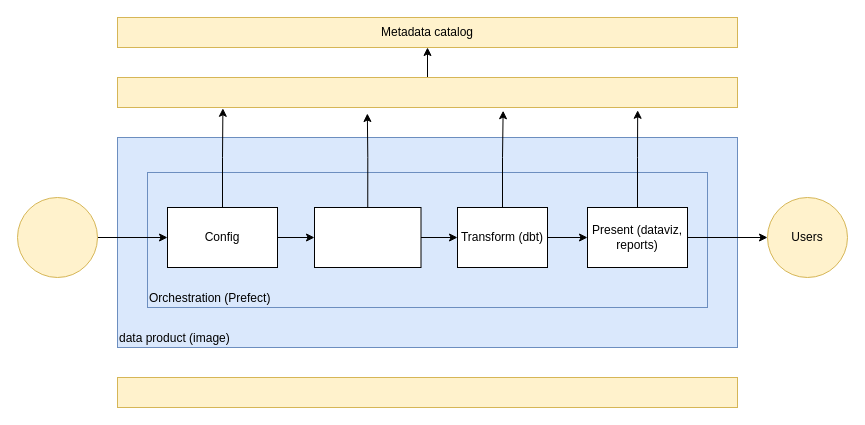
Image size: 865x425. Some labels were removed from this diagram. The shapes that lost their labels are listed below. From the top down, each one's centre as x and y in pixels, then its label:
At (x=427, y=92): "Metadata storage buckets (GCS, run versioned)".
At (x=57, y=237): "Data sources".
At (x=367, y=237): "Ingest (dbc)".
At (x=427, y=392): "Orchestration, platform".
